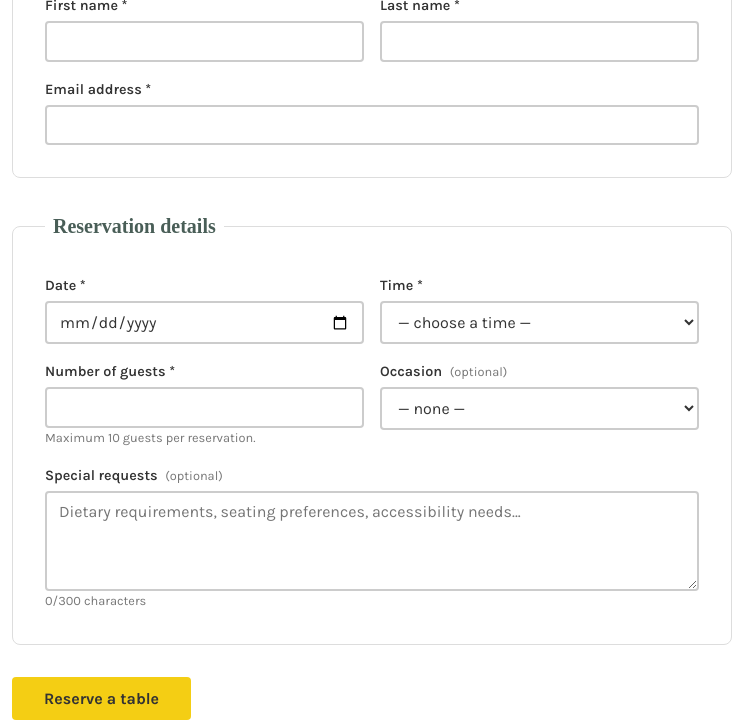
BookingForm validation › shows an error summary banner on invalid submit
(page scrolled)
Click the button "Reserve a table": (102, 698) [12,676,191,719]
(page scrolled)
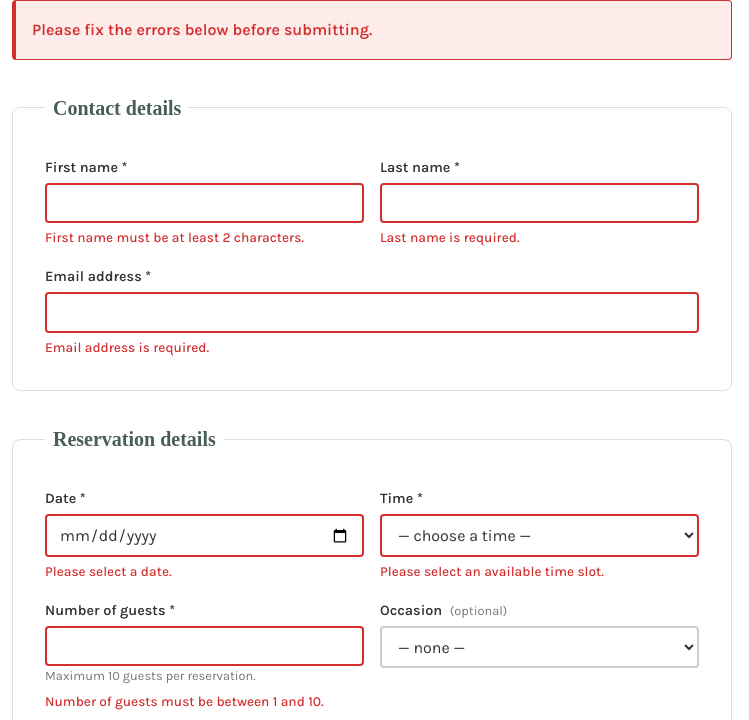
Check: the text "Please fix the errors below before submitting." is shown, box [12,0,732,60]
